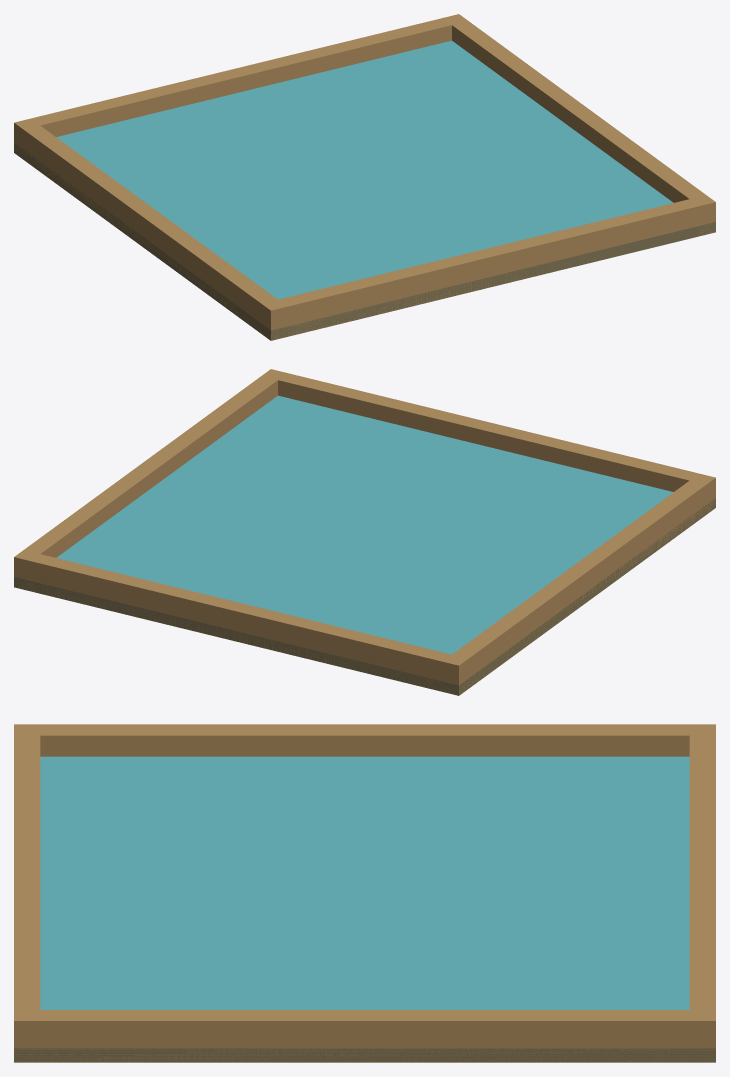
File: TR3_FloodedPaddy_Empty_4x4.glb
3 views of the same model, one above another, from view 1: azimuth 30°, elevation 25°; view 2: azimuth 150°, elevation 25°; view 3: azimuth 270°, elevation 25° (orthographic). The views are drawn at different scales.
Visible parts, largest first — view 1: TR3_FloodedPaddy_Empty_4x4; view 2: TR3_FloodedPaddy_Empty_4x4; view 3: TR3_FloodedPaddy_Empty_4x4.
Part boxes in pixels (left/top/right/bottom): TR3_FloodedPaddy_Empty_4x4: left=14, top=14, right=715, bottom=340; TR3_FloodedPaddy_Empty_4x4: left=14, top=369, right=715, bottom=695; TR3_FloodedPaddy_Empty_4x4: left=14, top=724, right=715, bottom=1062.
Bounding box in the file's own units: 4 × 0.26 × 4.
